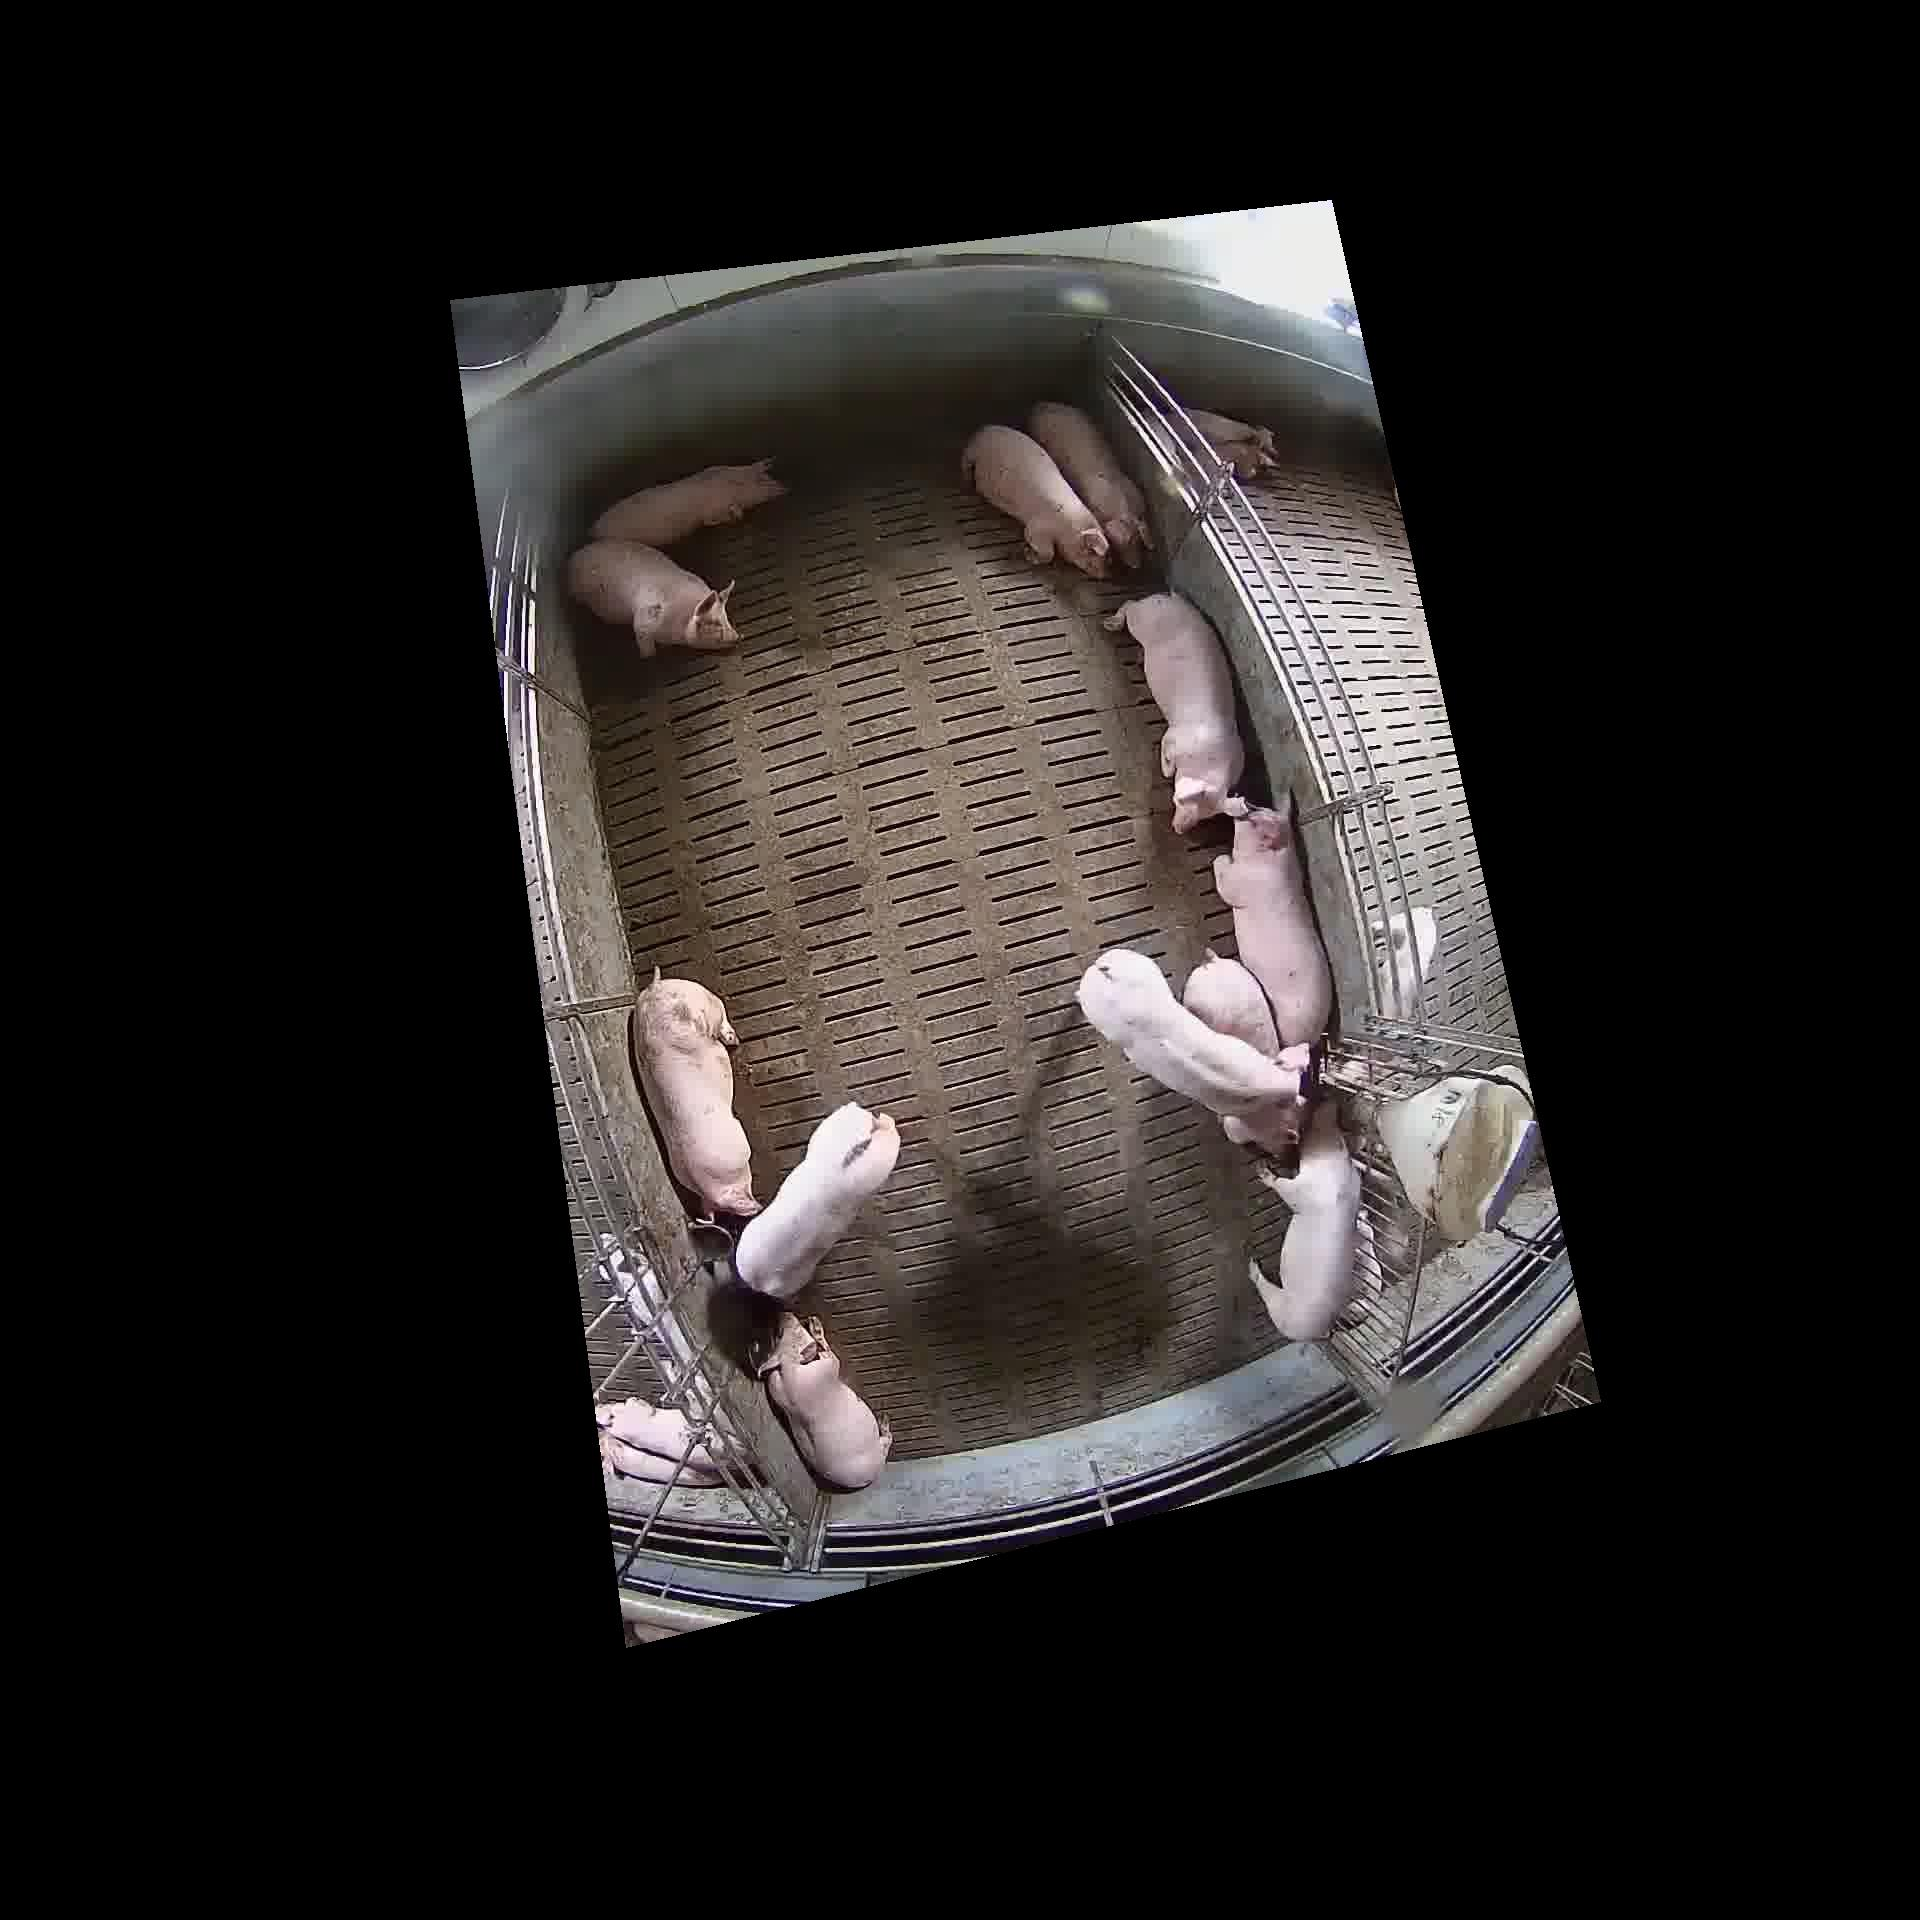pig: (1074, 944, 1303, 1115), (629, 974, 760, 1217), (737, 1101, 898, 1296), (1106, 594, 1241, 826), (1248, 1101, 1377, 1340), (1210, 788, 1326, 1051), (758, 1312, 890, 1486), (960, 425, 1106, 573), (568, 536, 737, 656), (1027, 403, 1148, 564), (587, 450, 782, 543), (1182, 956, 1278, 1051)
